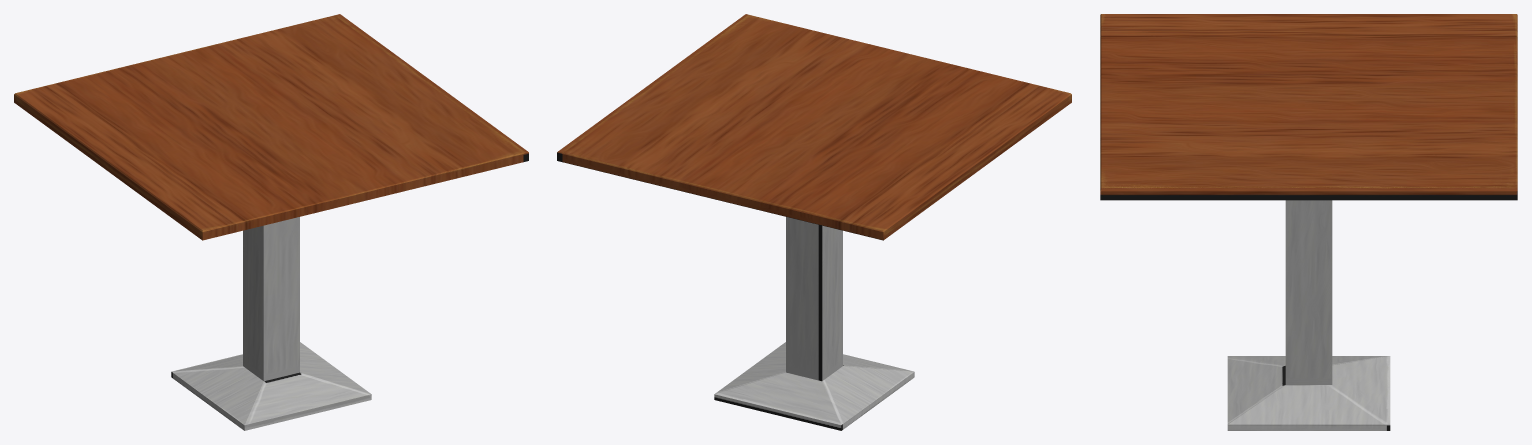
File: Table_4p.fbx
3 renders of one model, left to right at view 1: azimuth 30°, elevation 25°; view 2: azimuth 150°, elevation 25°; view 3: azimuth 270°, elevation 25°, orthographic. The views are drawn at different scales.
Visible parts, largest first — view 1: table; view 2: table; view 3: table.
Part boxes in pixels (x1,y1,x2,y2): table: (14, 14, 528, 430); table: (557, 14, 1071, 430); table: (1100, 14, 1517, 430).
Bounding box in the file's own units: 89.96 × 70.15 × 89.98.
